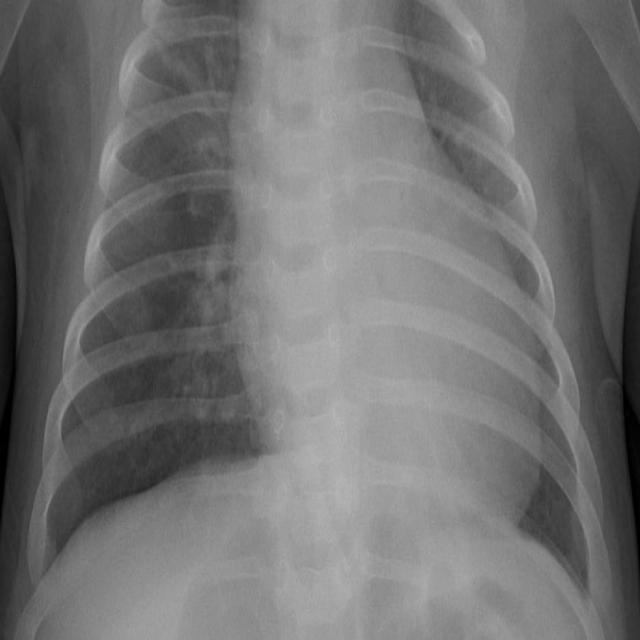low-pneumonia: (168, 219, 240, 421), (167, 61, 229, 224)
